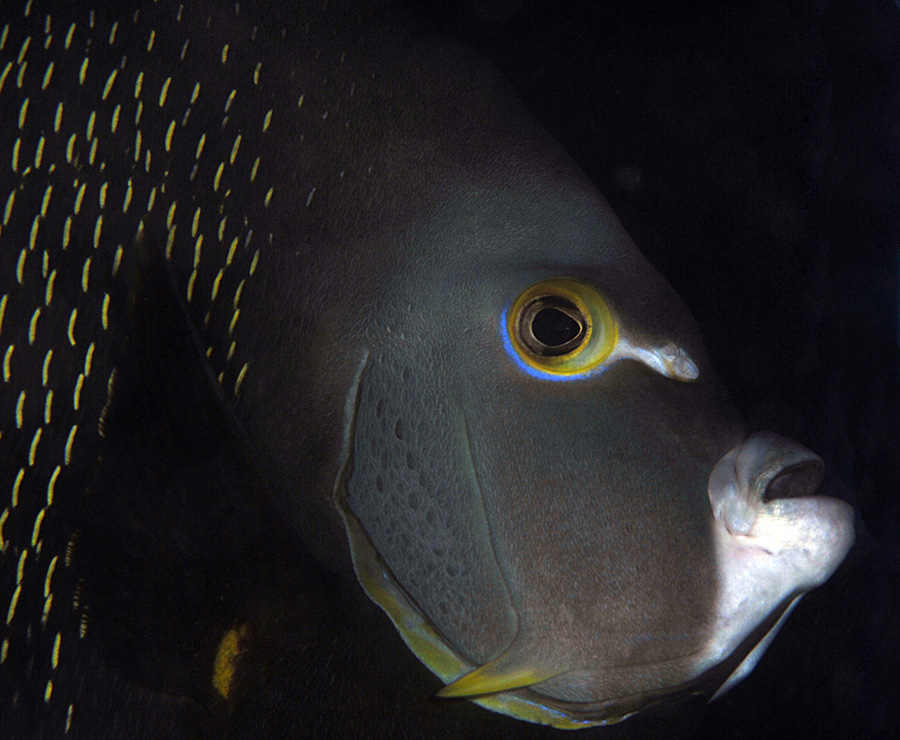Pomacanthus_paru: (1, 30, 874, 720)
